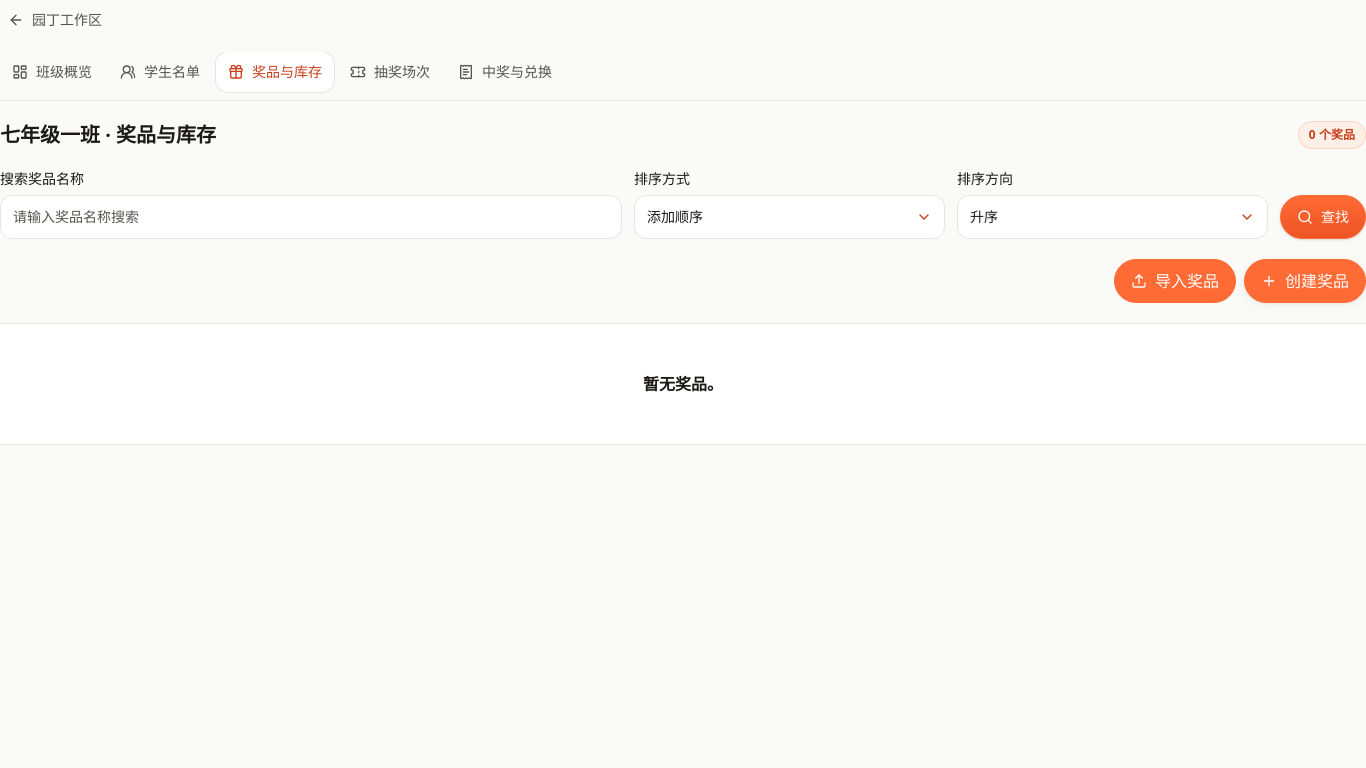
Test case: prize import dialog offers template download and file preview
Click the button "导入奖品". click: (1175,281)
box: [1114,259,1236,303]
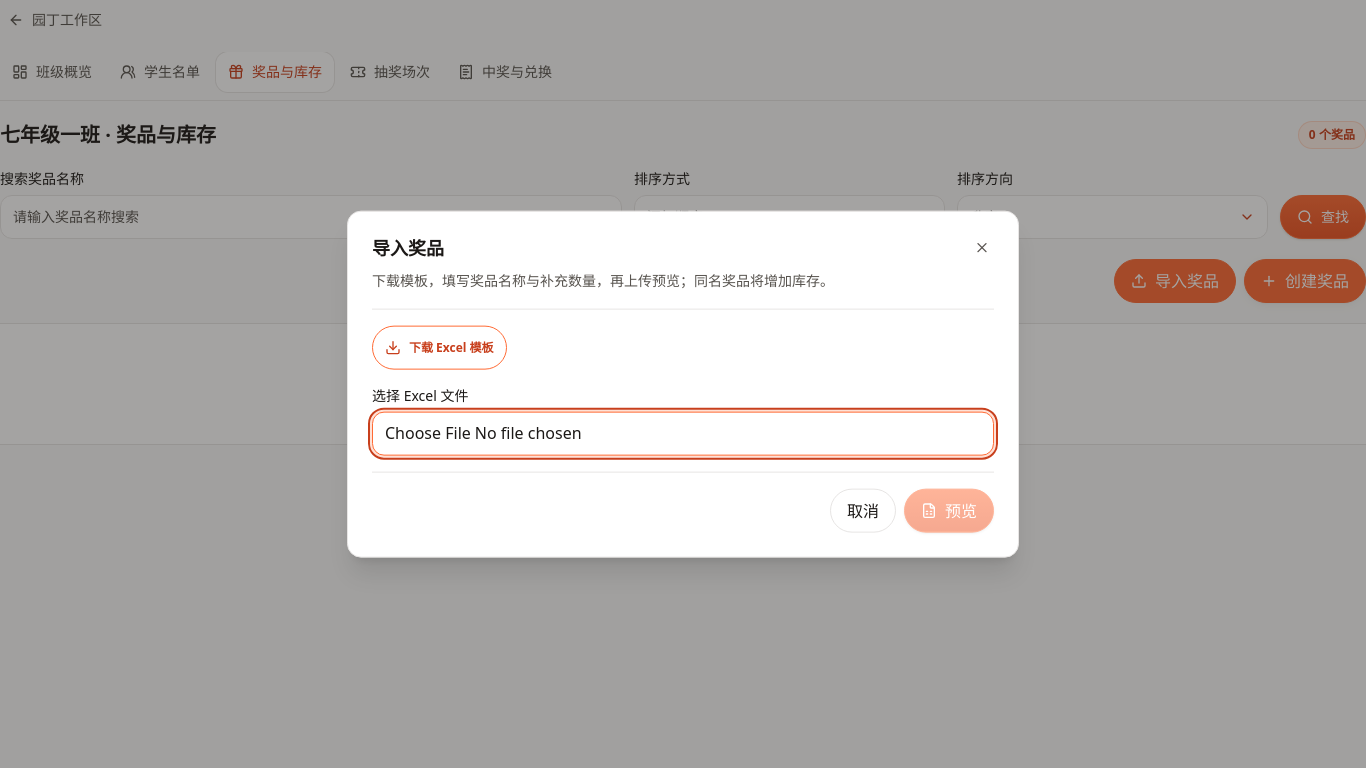
Result: the file field labelled "选择 Excel 文件" is shown at [372,411,994,455]
Result: the button "预览" is disabled at [904,488,994,532]
